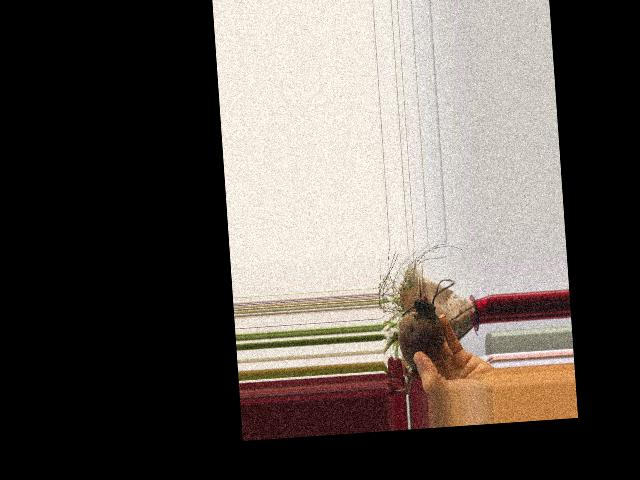beet: (387, 278, 461, 391)
